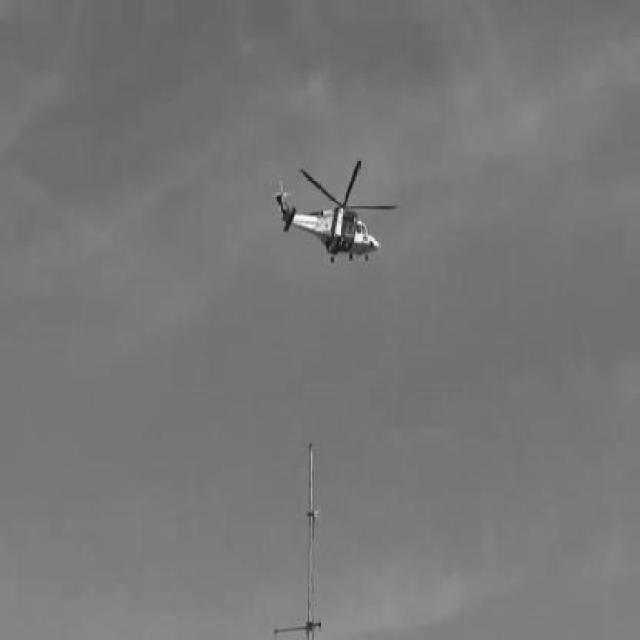helikopter: (276, 159, 396, 264)
